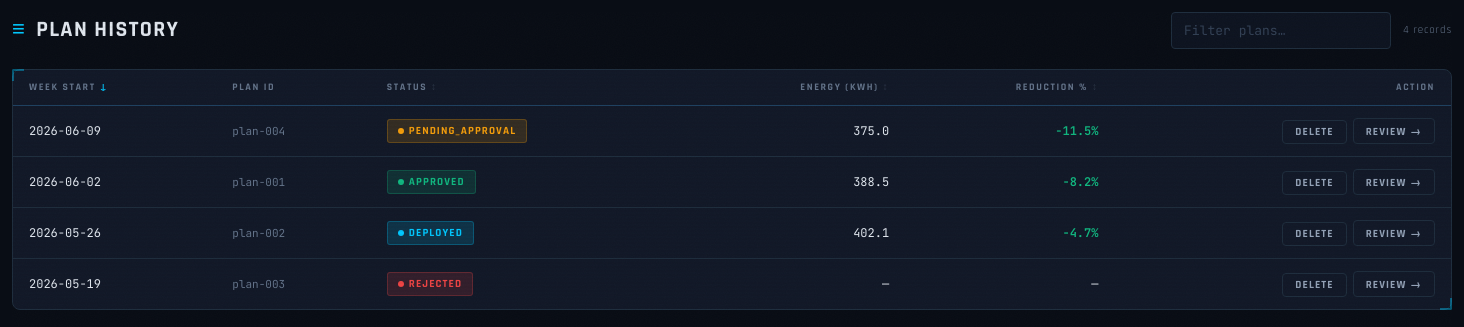
Test: History › filters plans by search input
expect the text "plan-001" is shown: met, box left=216, top=156, right=371, bottom=208
Type "deployed" into the search field with placeholder "Filter plans…" at (1281, 30), box left=1171, top=12, right=1391, bottom=49
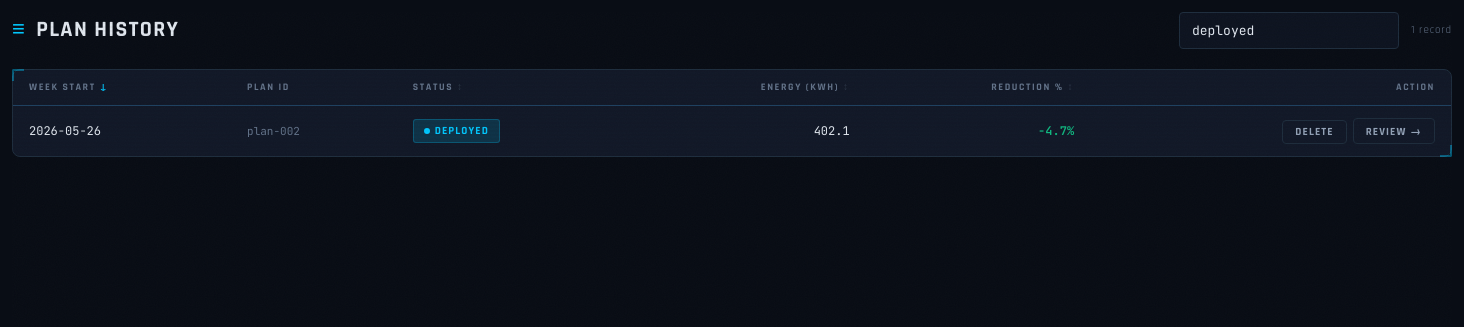
expect the text "plan-002" is shown: met, box left=231, top=106, right=397, bottom=156
expect the text "plan-001" is gone: met
